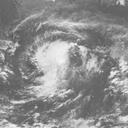cyclone: (31, 40, 71, 79)
